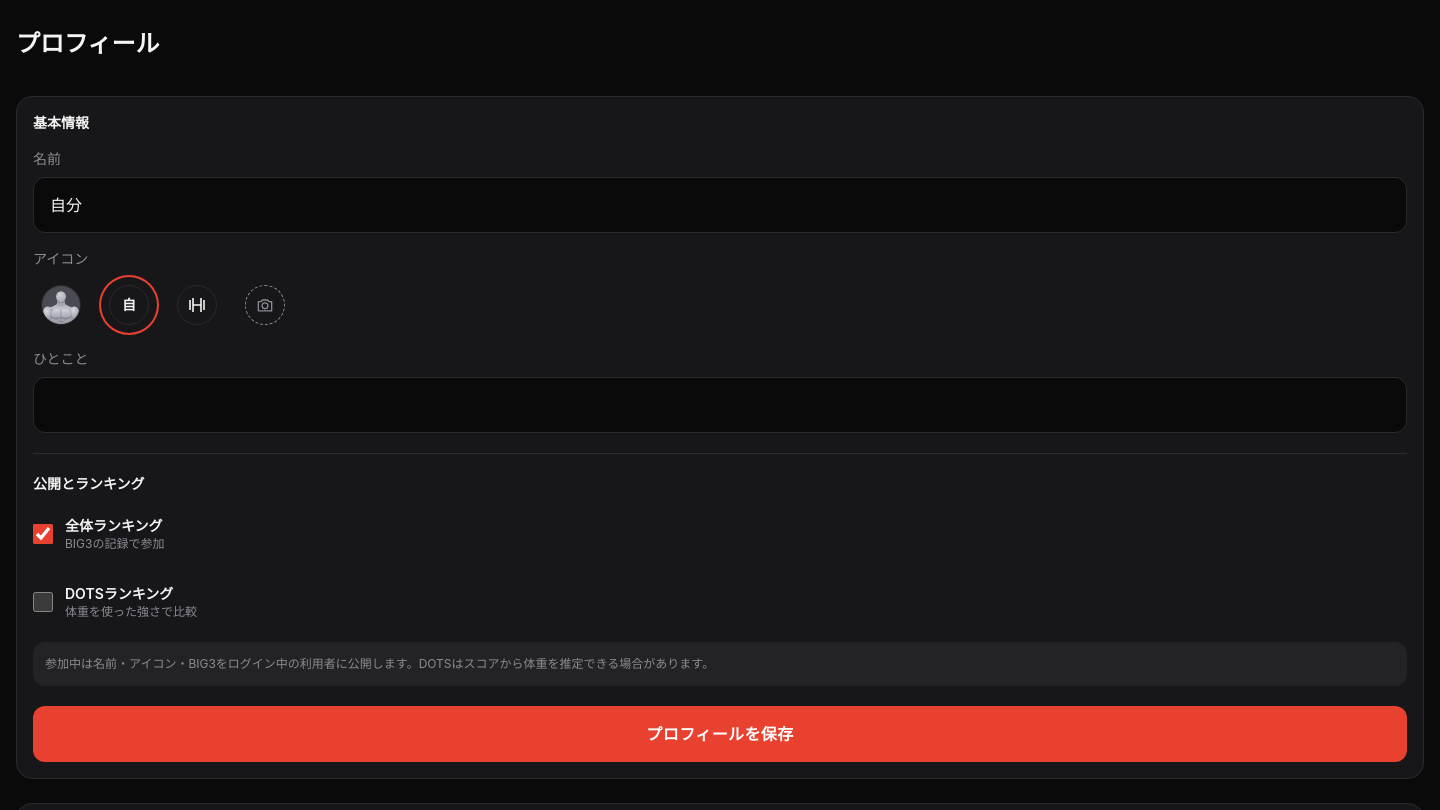
it: saves only the profile when the DOTS settings are unchanged
Click the button "プロフィールを保存". click: (720, 734)
box: [33, 706, 1407, 762]
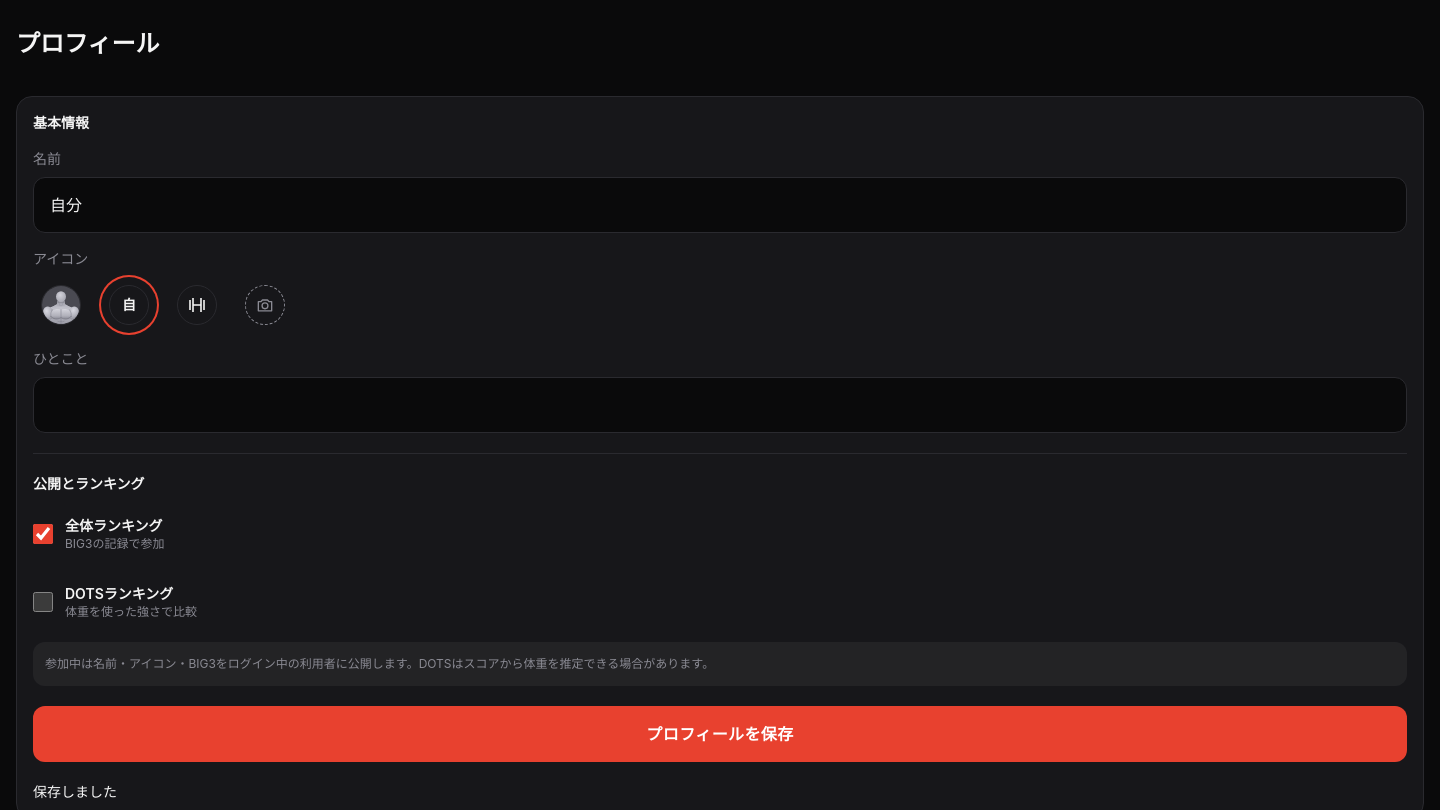
Result: the message reads "保存しました" at [33, 782, 117, 800]
